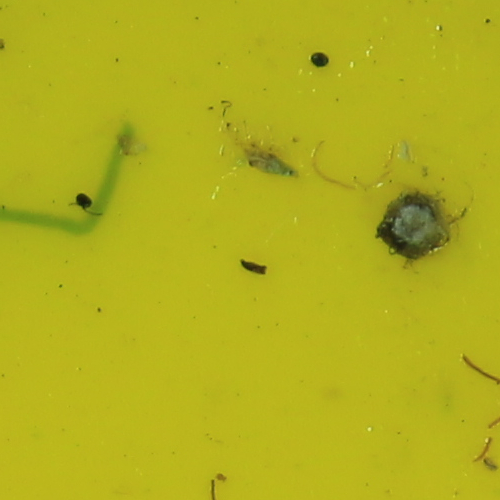psylla: (239, 140, 299, 178)
